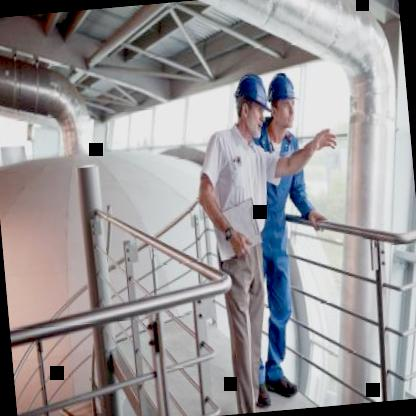helmet: (226, 70, 278, 145), (260, 66, 306, 146)
